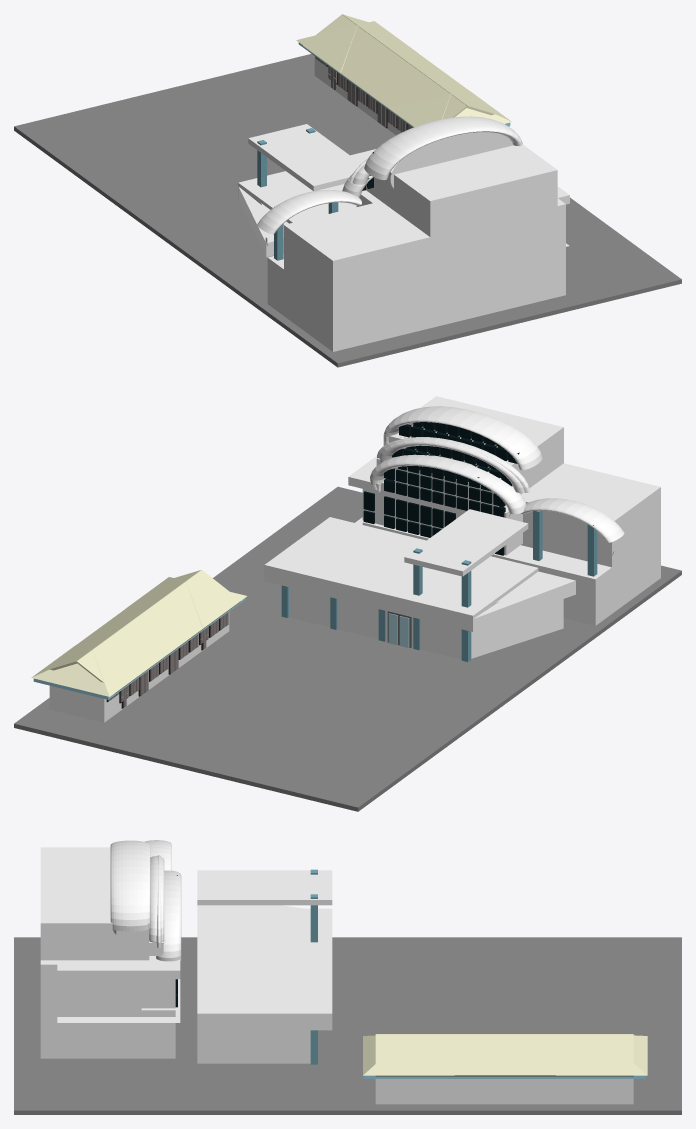
File: DepartmentOfMusic.glb
3 renders of one model, top to bottom at view 1: azimuth 30°, elevation 25°; view 2: azimuth 150°, elevation 25°; view 3: azimuth 270°, elevation 25°, orthographic. The views are drawn at different scales.
Visible parts, largest first — view 1: pyramid; view 2: pyramid; view 3: pyramid.
Part boxes in pixels (box(x1,y1,x2,y2)): pyramid: box(14, 14, 681, 367); pyramid: box(14, 396, 681, 811); pyramid: box(14, 840, 681, 1114).
Size of the model in its own units: 10.86 by 4.75 by 17.31.
Materials: 15 (15 with a texture image).
